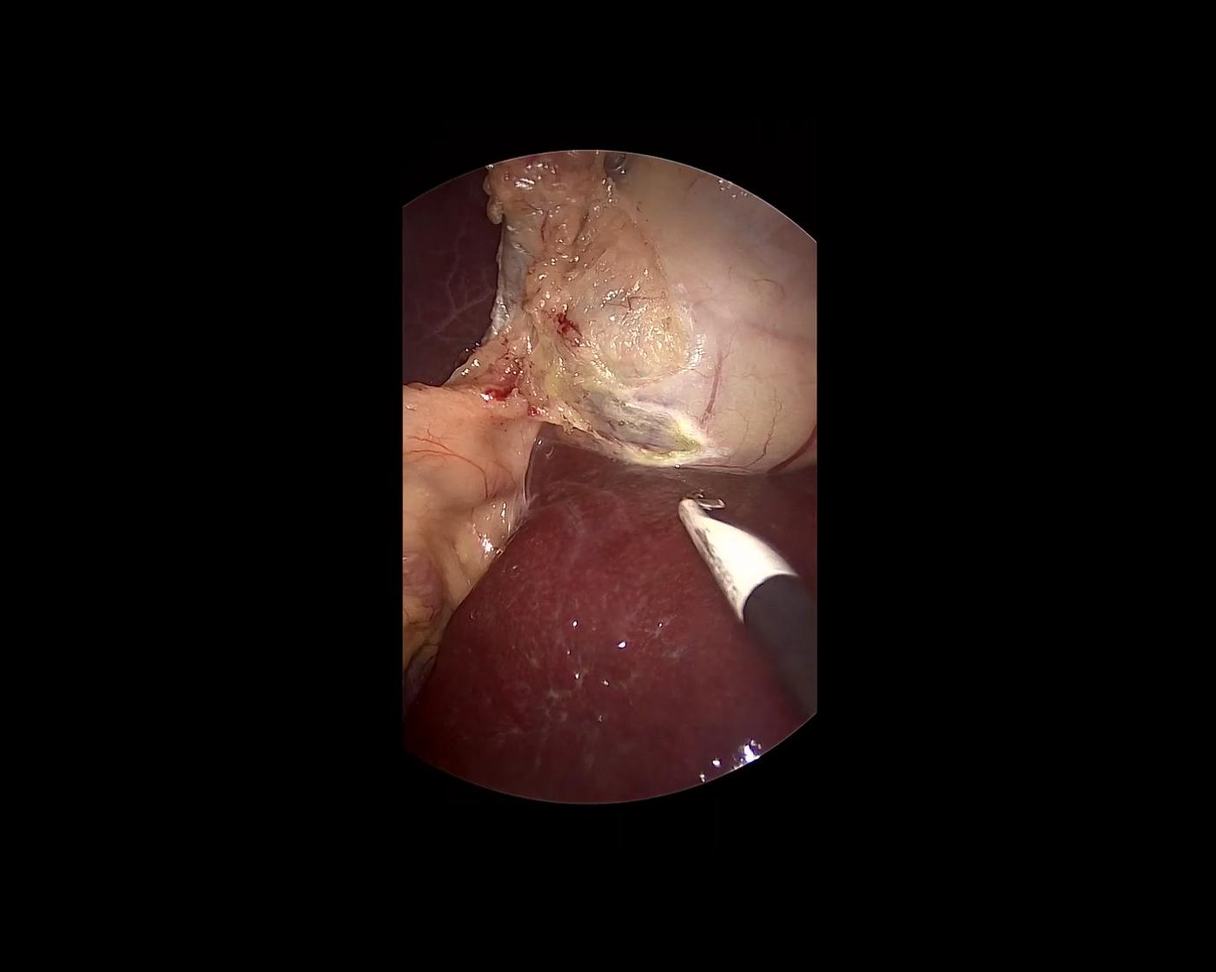Cautery: (656, 465, 870, 720)
Gallbladder: (494, 150, 815, 476)
Liver: (396, 408, 853, 842), (399, 165, 500, 389)
